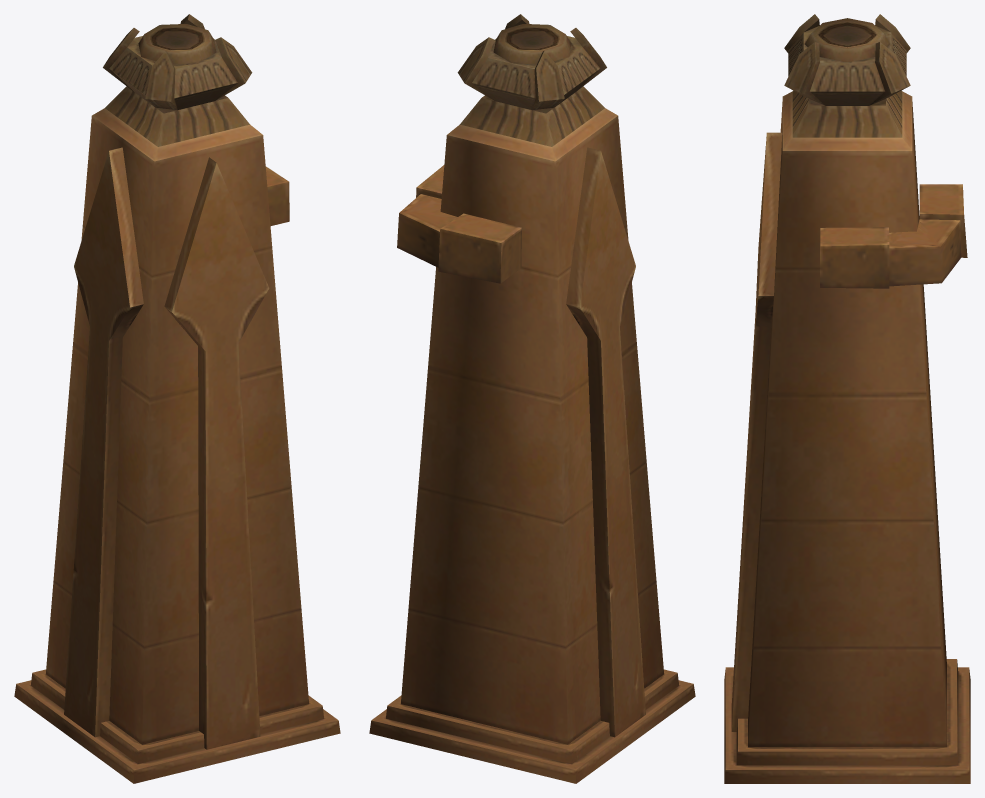
Rendered from shakian_cliff_convex8_wallcorner01_02.FBX.
The picture shows the model from 3 angles, left to right: view 1: azimuth 30°, elevation 25°; view 2: azimuth 150°, elevation 25°; view 3: azimuth 270°, elevation 25°; orthographic projection. The views are drawn at different scales.
Parts seen in each view (by area): view 1: shakian_cliff_convex8_wallcorner01_02; view 2: shakian_cliff_convex8_wallcorner01_02; view 3: shakian_cliff_convex8_wallcorner01_02.
Boxes of the visible parts, bbox=[...] form: shakian_cliff_convex8_wallcorner01_02: bbox=[14, 14, 340, 783]; shakian_cliff_convex8_wallcorner01_02: bbox=[369, 14, 695, 783]; shakian_cliff_convex8_wallcorner01_02: bbox=[724, 14, 970, 783].
Bounding box in the file's own units: 3.62 × 11.4 × 3.62.
